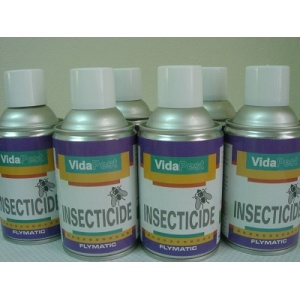Aerosol_cans: (135, 63, 225, 261), (52, 65, 140, 261), (222, 64, 300, 258), (1, 67, 65, 246)
